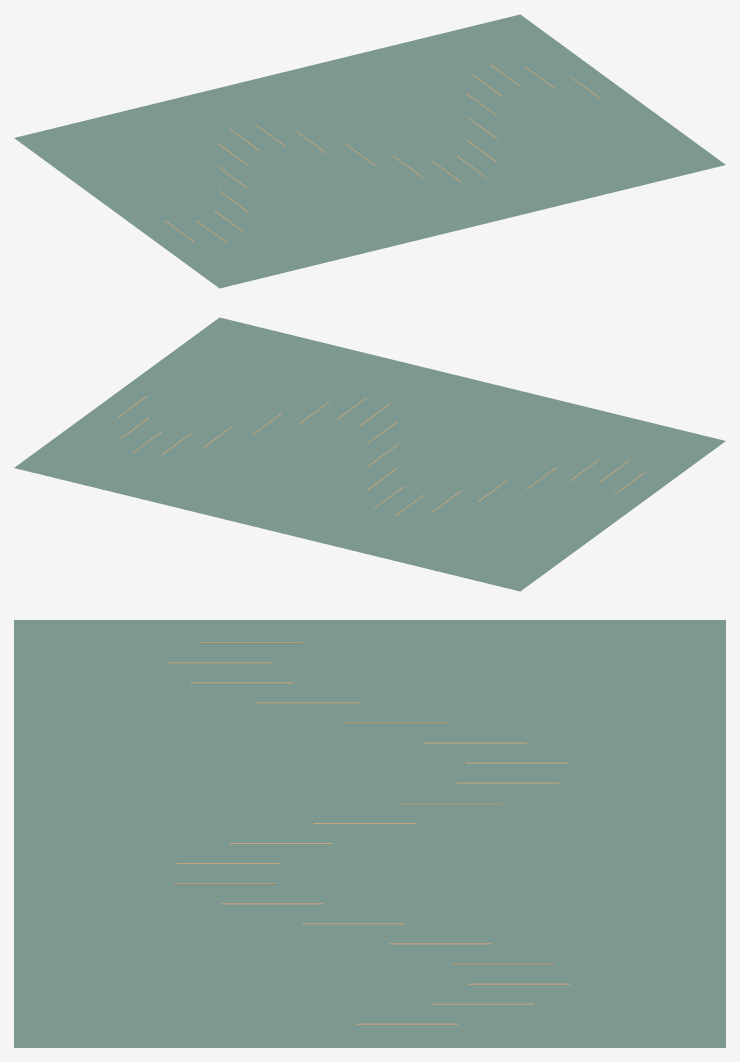
Rendered from 249_L118_L12_LayerReference.glb.
3 renders of one model, top to bottom at view 1: azimuth 30°, elevation 25°; view 2: azimuth 150°, elevation 25°; view 3: azimuth 270°, elevation 25°, orthographic. The views are drawn at different scales.
Parts seen in each view (by area): view 1: 0000__PSMAT__dielectric; view 2: 0000__PSMAT__dielectric; view 3: 0000__PSMAT__dielectric.
Part boxes in pixels (x1,y1,x2,y2): 0000__PSMAT__dielectric: [14, 14, 725, 288]; 0000__PSMAT__dielectric: [14, 317, 725, 591]; 0000__PSMAT__dielectric: [14, 620, 725, 1047].
Bounding box in the file's own units: 0.472 × 0.000509 × 0.332.
